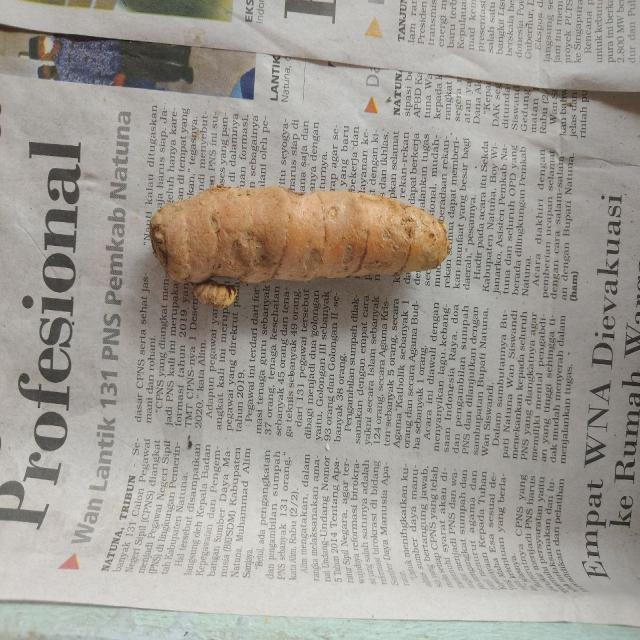ginger: (151, 184, 449, 295)
